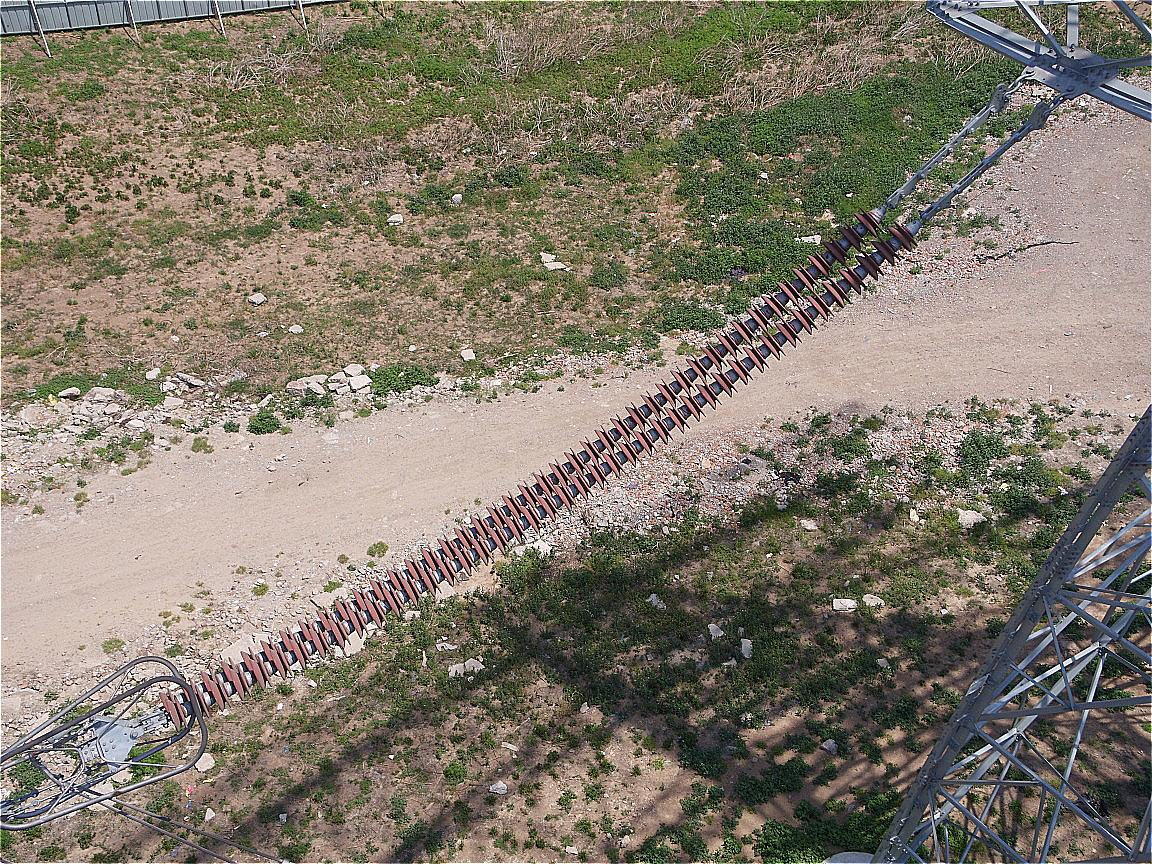insultor2: (151, 208, 935, 742)
